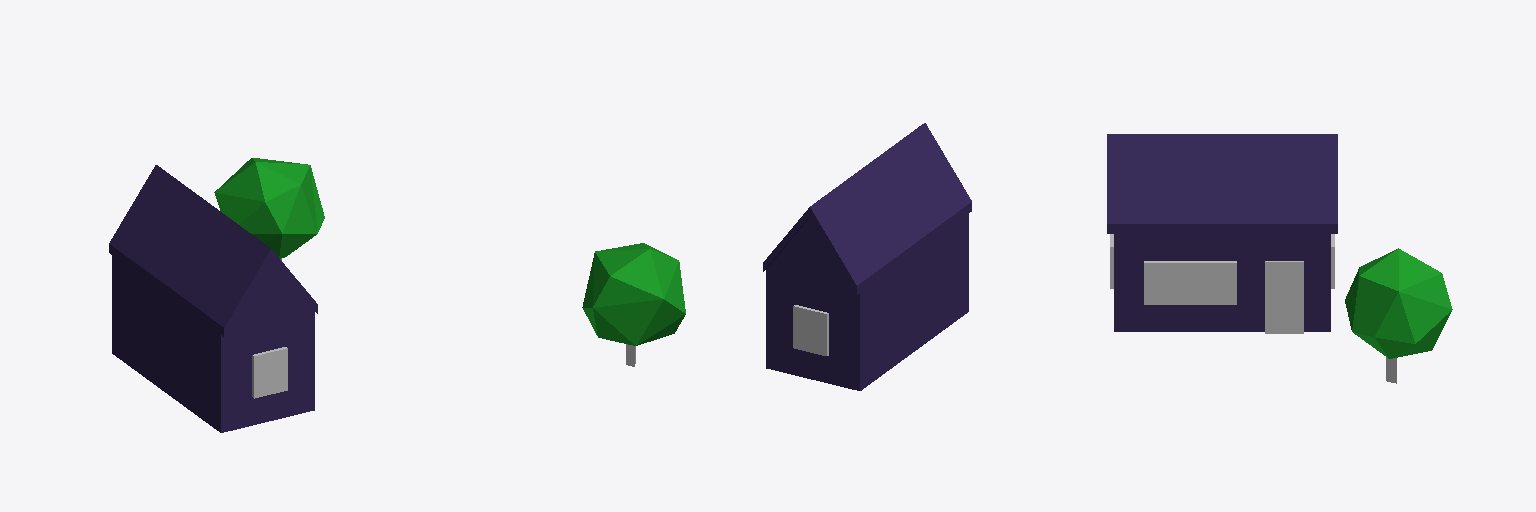
The model's file is house_hipo.obj.
3 views of the same model, side by side, from view 1: azimuth 30°, elevation 25°; view 2: azimuth 150°, elevation 25°; view 3: azimuth 270°, elevation 25° (orthographic).
Parts seen in each view (by area): view 1: House_Cube.001, t2_bush_Icosphere.003, Left_Window_Cube.005; view 2: House_Cube.001, t2_bush_Icosphere.003, Left_Window.001_Cube.006; view 3: House_Cube.001, t2_bush_Icosphere.003, Window_Cube.004, Door_Cube.002.
Boxes of the visible parts, <box> form: House_Cube.001: <box>109,165,317,432</box>; t2_bush_Icosphere.003: <box>214,158,324,258</box>; Left_Window_Cube.005: <box>252,347,287,398</box>; House_Cube.001: <box>763,123,971,390</box>; t2_bush_Icosphere.003: <box>582,243,685,345</box>; Left_Window.001_Cube.006: <box>793,305,828,355</box>; House_Cube.001: <box>1107,134,1337,331</box>; t2_bush_Icosphere.003: <box>1345,248,1452,358</box>; Window_Cube.004: <box>1144,261,1236,304</box>; Door_Cube.002: <box>1265,261,1303,333</box>.
Bounding box in the file's own units: 0.5015 × 0.3568 × 0.6354.